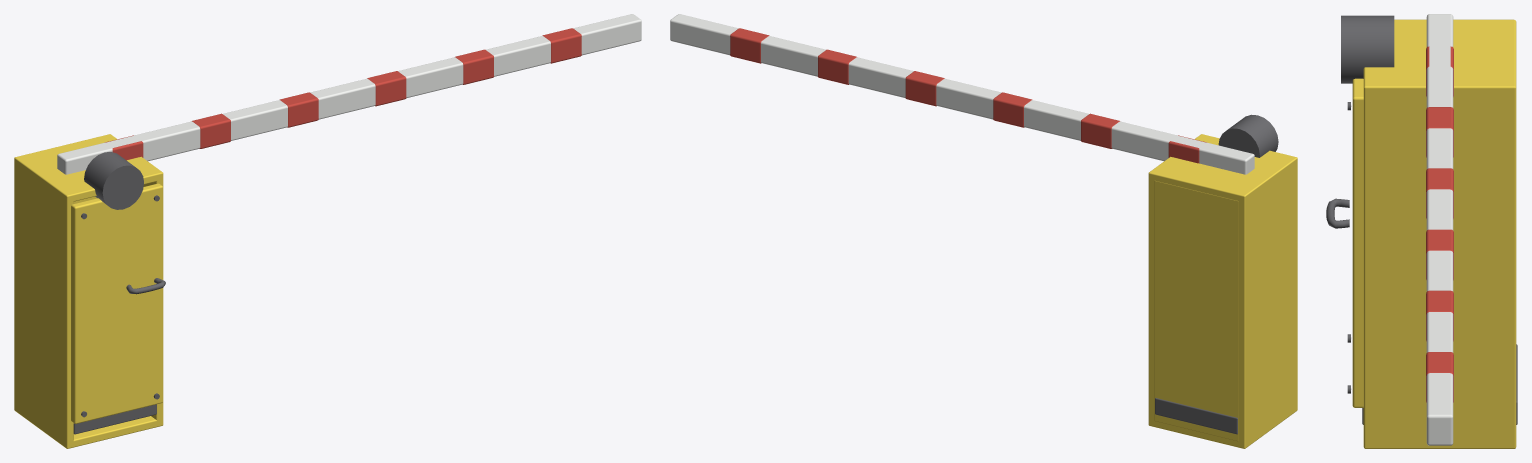
File: prison-complex-builder-barrier-arm-7d2e4494__25657.glb
3 views of the same model, side by side, from view 1: azimuth 30°, elevation 25°; view 2: azimuth 150°, elevation 25°; view 3: azimuth 270°, elevation 25° (orthographic). The views are drawn at different scales.
Parts seen in each view (by area): view 1: barrier-arm (×3), door-1/paintYellow; view 2: barrier-arm (×3); view 3: barrier-arm (×3), door-1/paintYellow, door-1/steelDark.
Part boxes in pixels (x1,y1,x2,y2): barrier-arm (×3): (14, 14, 641, 448); door-1/paintYellow: (71, 183, 162, 423); barrier-arm (×3): (670, 14, 1297, 448); barrier-arm (×3): (1341, 14, 1517, 448); door-1/paintYellow: (1352, 78, 1363, 407); door-1/steelDark: (1326, 102, 1350, 393).
Size of the model in its own units: 2.59 by 1.15 by 0.5026.
